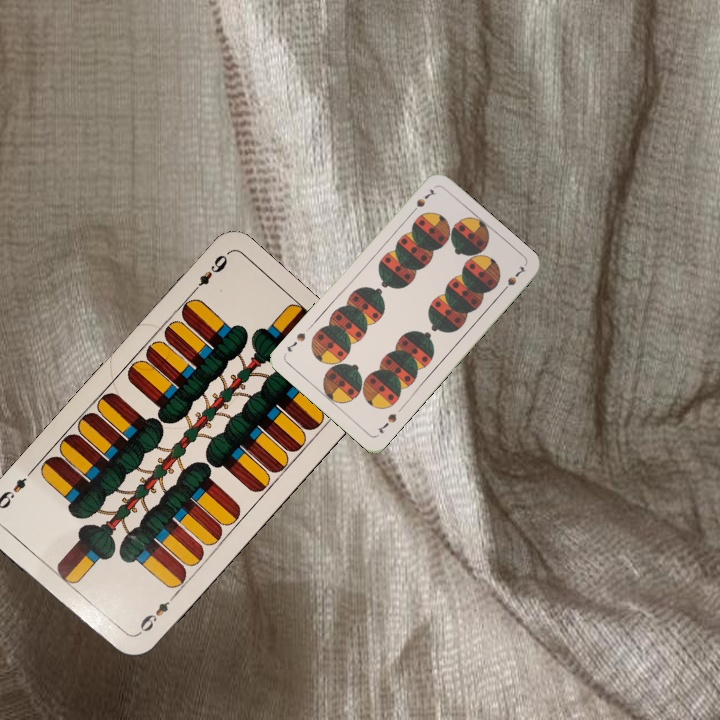E9: (132, 591, 178, 638), (186, 250, 230, 298)
S7: (406, 184, 438, 217), (373, 409, 399, 436)
